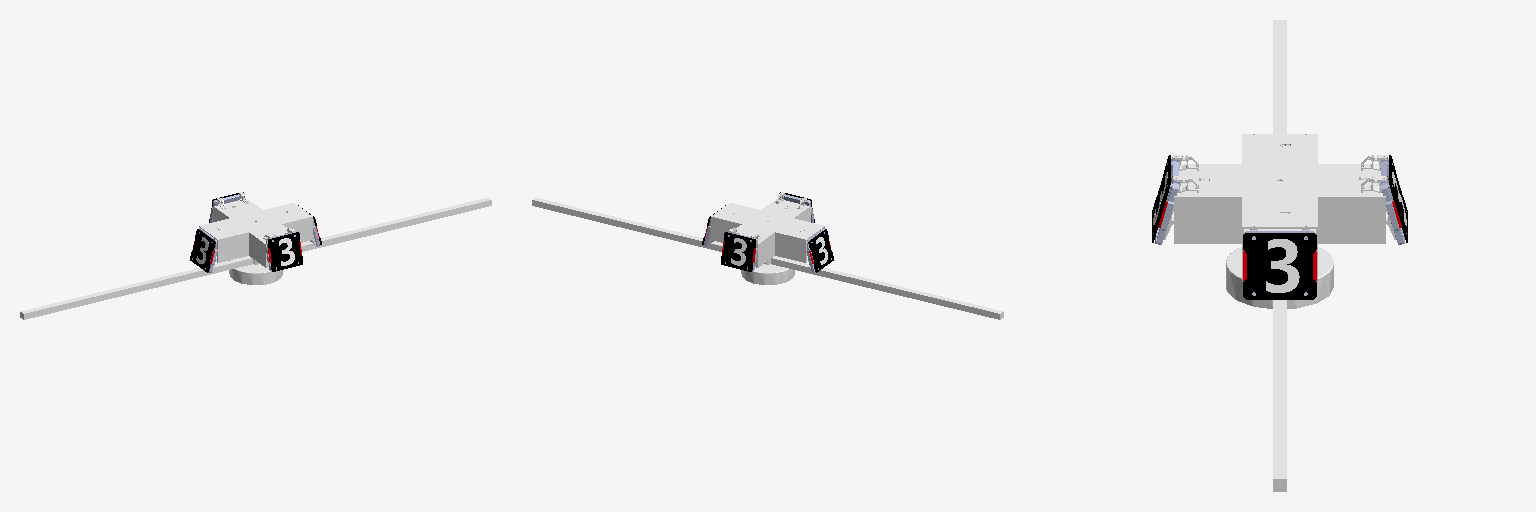
URDF robot description (Armor_Robot):
<?xml version="1.0" encoding="utf-8"?>
<!-- This URDF was automatically created by SolidWorks to URDF Exporter! Originally created by [author] ([email redacted]) 
     Commit Version: 1.6.0-4-g7f85cfe  Build Version: 1.6.7995.38578
     For more information, please see http://wiki.ros.org/sw_urdf_exporter -->
<robot
  name="Armor_Robot">
  <link
    name="base_link">
    <inertial>
      <origin
        xyz="0 1.84212725368865E-17 0.0416161371560982"
        rpy="0 0 0" />
      <mass
        value="2.82025938303669" />
      <inertia
        ixx="0.00536061385559418"
        ixy="1.9347577475559E-19"
        ixz="1.3377114869985E-19"
        iyy="0.421962176355594"
        iyz="-8.392727982218E-20"
        izz="0.424580430670725" />
    </inertial>
    <visual>
      <origin
        xyz="0 0 0"
        rpy="0 0 0" />
      <geometry>
        <mesh
          filename="package://Armor_Robot/meshes/base_link.STL" />
      </geometry>
      <material
        name="">
        <color
          rgba="1 1 1 1" />
      </material>
    </visual>
    <collision>
      <origin
        xyz="0 0 0"
        rpy="0 0 0" />
      <geometry>
        <mesh
          filename="package://Armor_Robot/meshes/base_link.STL" />
      </geometry>
    </collision>
  </link>
  <link
    name="move_link">
    <inertial>
      <origin
        xyz="0 4.8450284582946E-19 0.035"
        rpy="0 0 0" />
      <mass
        value="0.137444678594553" />
      <inertia
        ixx="7.75989747898417E-05"
        ixy="0"
        ixz="-2.32406525320738E-37"
        iyy="7.75989747898417E-05"
        iyz="2.06367498512661E-37"
        izz="4.2951462060798E-05" />
    </inertial>
    <visual>
      <origin
        xyz="0 0 0"
        rpy="0 0 0" />
      <geometry>
        <mesh
          filename="package://Armor_Robot/meshes/move_link.STL" />
      </geometry>
      <material
        name="">
        <color
          rgba="1 1 1 1" />
      </material>
    </visual>
    <collision>
      <origin
        xyz="0 0 0"
        rpy="0 0 0" />
      <geometry>
        <mesh
          filename="package://Armor_Robot/meshes/move_link.STL" />
      </geometry>
    </collision>
  </link>
  <joint
    name="move_joint"
    type="prismatic">
    <origin
      xyz="0 0 0.05"
      rpy="0 0 0" />
    <parent
      link="base_link" />
    <child
      link="move_link" />
    <axis
      xyz="1 0 0" />
    <!-- <limit
      lower="1"
      upper="-1"
      effort="0"
      velocity="0" /> -->
  </joint>
  <link
    name="body_link">
    <inertial>
      <origin
        xyz="0.00323410697082153 -0.000824032968703464 0.0434141574886305"
        rpy="0 0 0" />
      <mass
        value="1.43184052536946" />
      <inertia
        ixx="0.0108592385234091"
        ixy="-6.5109540176497E-07"
        ixz="6.16574138294673E-06"
        iyy="0.0123197521096828"
        iyz="-5.52200428477679E-11"
        izz="0.0213749566414504" />
    </inertial>
    <visual>
      <origin
        xyz="0 0 0"
        rpy="0 0 0" />
      <geometry>
        <mesh
          filename="package://Armor_Robot/meshes/body_link.STL" />
      </geometry>
      <material
        name="">
        <color
          rgba="1 1 1 1" />
      </material>
    </visual>
    <collision>
      <origin
        xyz="0 0 0"
        rpy="0 0 0" />
      <geometry>
        <mesh
          filename="package://Armor_Robot/meshes/body_link.STL" />
      </geometry>
    </collision>
  </link>
  <joint
    name="body_joint"
    type="continuous">
    <origin
      xyz="0 0 0.07"
      rpy="0 0 0" />
    <parent
      link="move_link" />
    <child
      link="body_link" />
    <axis
      xyz="0 0 1" />
  </joint>
  <link
    name="Armor_link_1">
    <inertial>
      <origin
        xyz="0.21405 1.3892E-08 0.025955"
        rpy="0 0 0" />
      <mass
        value="0.050946" />
      <inertia
        ixx="0.00014072"
        ixy="-1.1781E-10"
        ixz="1.6351E-05"
        iyy="6.7039E-05"
        iyz="4.5927E-10"
        izz="8.3002E-05" />
    </inertial>
    <visual>
      <origin
        xyz="0 0 0"
        rpy="0 0 0" />
      <geometry>
        <mesh
          filename="package://Armor_Robot/meshes/Armor_link_1.STL" />
      </geometry>
      <material
        name="">
        <color
          rgba="0.79216 0.81961 0.93333 1" />
      </material>
    </visual>
    <collision>
      <origin
        xyz="0 0 0"
        rpy="0 0 0" />
      <geometry>
        <mesh
          filename="package://Armor_Robot/meshes/Armor_link_1.STL" />
      </geometry>
    </collision>
  </link>
  <joint
    name="Armor_joint_1"
    type="fixed">
    <origin
      xyz="0 0 0"
      rpy="0 0 0" />
    <parent
      link="body_link" />
    <child
      link="Armor_link_1" />
    <axis
      xyz="0 0 0" />
  </joint>
  <link
    name="Armor_light_link_1">
    <inertial>
      <origin
        xyz="0.22157 -1.3919E-11 0.026444"
        rpy="0 0 0" />
      <mass
        value="0.007108" />
      <inertia
        ixx="2.1065E-06"
        ixy="1.2734E-14"
        ixz="5.1746E-07"
        iyy="2.2447E-06"
        iyz="-4.3448E-14"
        izz="3.1392E-07" />
    </inertial>
    <visual>
      <origin
        xyz="0 0 0"
        rpy="0 0 0" />
      <geometry>
        <mesh
          filename="package://Armor_Robot/meshes/Armor_light_link_1.STL" />
      </geometry>
      <material
        name="">
        <color
          rgba="1 0 0 1" />
      </material>
    </visual>
    <collision>
      <origin
        xyz="0 0 0"
        rpy="0 0 0" />
      <geometry>
        <mesh
          filename="package://Armor_Robot/meshes/Armor_light_link_1.STL" />
      </geometry>
    </collision>
  </link>
  <joint
    name="Armor_light_joint_1"
    type="fixed">
    <origin
      xyz="0 0 0"
      rpy="0 0 0" />
    <parent
      link="Armor_link_1" />
    <child
      link="Armor_light_link_1" />
    <axis
      xyz="0 0 0" />
  </joint>
  <link
    name="Armor_board_link_1">
    <inertial>
      <origin
        xyz="0.2279 8.3068E-10 0.028072"
        rpy="0 0 0" />
      <mass
        value="0.048187" />
      <inertia
        ixx="0.000127"
        ixy="9.2621E-20"
        ixz="1.5976E-05"
        iyy="6.3975E-05"
        iyz="1.1293E-19"
        izz="7.1656E-05" />
    </inertial>
    <visual>
      <origin
        xyz="0 0 0"
        rpy="0 0 0" />
      <geometry>
        <mesh
          filename="package://Armor_Robot/meshes/Armor_board_link_1.STL" />
      </geometry>
      <material
        name="">
        <color
          rgba="0 0 0 1" />
      </material>
    </visual>
    <collision>
      <origin
        xyz="0 0 0"
        rpy="0 0 0" />
      <geometry>
        <mesh
          filename="package://Armor_Robot/meshes/Armor_board_link_1.STL" />
      </geometry>
    </collision>
  </link>
  <joint
    name="Armor_board_joint_1"
    type="fixed">
    <origin
      xyz="0 0 0"
      rpy="0 0 0" />
    <parent
      link="Armor_link_1" />
    <child
      link="Armor_board_link_1" />
    <axis
      xyz="0 0 0" />
  </joint>
  <link
    name="Armor_num_link_1">
    <inertial>
      <origin
        xyz="0.22945 0.0084094 0.02828"
        rpy="0 0 0" />
      <mass
        value="0.00034078" />
      <inertia
        ixx="4.0012E-07"
        ixy="7.5418E-10"
        ixz="8.5023E-08"
        iyy="3.4009E-07"
        iyz="-2.8146E-09"
        izz="1.0559E-07" />
    </inertial>
    <visual>
      <origin
        xyz="0 0 0"
        rpy="0 0 0" />
      <geometry>
        <mesh
          filename="package://Armor_Robot/meshes/Armor_num_link_1.STL" />
      </geometry>
      <material
        name="">
        <color
          rgba="1 1 1 1" />
      </material>
    </visual>
    <!-- <collision>
      <origin
        xyz="0 0 0"
        rpy="0 0 0" />
      <geometry>
        <mesh
          filename="package://Armor_Robot/meshes/Armor_num_link_1.STL" />
      </geometry>
    </collision> -->
  </link>
  <joint
    name="Armor_num_joint_1"
    type="fixed">
    <origin
      xyz="0 0 0"
      rpy="0 0 0" />
    <parent
      link="Armor_board_link_1" />
    <child
      link="Armor_num_link_1" />
    <axis
      xyz="0 0 0" />
  </joint>
  <link
    name="Armor_link_2">
    <inertial>
      <origin
        xyz="1.67830696248036E-08 -0.205050357307329 0.0559554955610215"
        rpy="0 0 0" />
      <mass
        value="0.050945615705612" />
      <inertia
        ixx="6.70385544565706E-05"
        ixy="1.1618630452987E-10"
        ixz="4.54452869165702E-10"
        iyy="0.000140719404105713"
        iyz="-1.63508603410776E-05"
        izz="8.30016414568248E-05" />
    </inertial>
    <visual>
      <origin
        xyz="0 0 0"
        rpy="0 0 0" />
      <geometry>
        <mesh
          filename="package://Armor_Robot/meshes/Armor_link_2.STL" />
      </geometry>
      <material
        name="">
        <color
          rgba="0.792156862745098 0.819607843137255 0.933333333333333 1" />
      </material>
    </visual>
    <collision>
      <origin
        xyz="0 0 0"
        rpy="0 0 0" />
      <geometry>
        <mesh
          filename="package://Armor_Robot/meshes/Armor_link_2.STL" />
      </geometry>
    </collision>
  </link>
  <joint
    name="Armor_joint_2"
    type="fixed">
    <origin
      xyz="0 0 0"
      rpy="0 0 0" />
    <parent
      link="body_link" />
    <child
      link="Armor_link_2" />
    <axis
      xyz="0 0 0" />
  </joint>
  <link
    name="Armor_light_link_2">
    <inertial>
      <origin
        xyz="-1.3919E-11 -0.21257 0.056444"
        rpy="0 0 0" />
      <mass
        value="0.007108" />
      <inertia
        ixx="2.2447E-06"
        ixy="-1.2734E-14"
        ixz="-4.3448E-14"
        iyy="2.1065E-06"
        iyz="-5.1746E-07"
        izz="3.1392E-07" />
    </inertial>
    <visual>
      <origin
        xyz="0 0 0"
        rpy="0 0 0" />
      <geometry>
        <mesh
          filename="package://Armor_Robot/meshes/Armor_light_link_2.STL" />
      </geometry>
      <material
        name="">
        <color
          rgba="1 0 0 1" />
      </material>
    </visual>
    <collision>
      <origin
        xyz="0 0 0"
        rpy="0 0 0" />
      <geometry>
        <mesh
          filename="package://Armor_Robot/meshes/Armor_light_link_2.STL" />
      </geometry>
    </collision>
  </link>
  <joint
    name="Armor_light_joint_2"
    type="fixed">
    <origin
      xyz="0 0 0"
      rpy="0 0 0" />
    <parent
      link="Armor_link_2" />
    <child
      link="Armor_light_link_2" />
    <axis
      xyz="0 0 0" />
  </joint>
  <link
    name="Armor_board_link_2">
    <inertial>
      <origin
        xyz="8.30680123428337E-10 -0.218896581535879 0.0580715484311269"
        rpy="0 0 0" />
      <mass
        value="0.0481867874495532" />
      <inertia
        ixx="6.39748637618369E-05"
        ixy="-1.28431106957352E-19"
        ixz="-2.11911365503264E-20"
        iyy="0.000126997669638442"
        iyz="-1.59756619204251E-05"
        izz="7.16563533769967E-05" />
    </inertial>
    <visual>
      <origin
        xyz="0 0 0"
        rpy="0 0 0" />
      <geometry>
        <mesh
          filename="package://Armor_Robot/meshes/Armor_board_link_2.STL" />
      </geometry>
      <material
        name="">
        <color
          rgba="0 0 0 1" />
      </material>
    </visual>
    <collision>
      <origin
        xyz="0 0 0"
        rpy="0 0 0" />
      <geometry>
        <mesh
          filename="package://Armor_Robot/meshes/Armor_board_link_2.STL" />
      </geometry>
    </collision>
  </link>
  <joint
    name="Armor_board_joint_2"
    type="fixed">
    <origin
      xyz="0 0 0"
      rpy="0 0 0" />
    <parent
      link="Armor_link_2" />
    <child
      link="Armor_board_link_2" />
    <axis
      xyz="0 0 0" />
  </joint>
  <link
    name="Armor_num_link_2">
    <inertial>
      <origin
        xyz="0.00840944059962741 -0.220448164013808 0.0582803425975888"
        rpy="0 0 0" />
      <mass
        value="0.000340775843454777" />
      <inertia
        ixx="3.40092980656507E-07"
        ixy="-7.54176109816083E-10"
        ixz="-2.81462765480805E-09"
        iyy="4.00122456800335E-07"
        iyz="-8.50231037345994E-08"
        izz="1.05593788384602E-07" />
    </inertial>
    <visual>
      <origin
        xyz="0 0 0"
        rpy="0 0 0" />
      <geometry>
        <mesh
          filename="package://Armor_Robot/meshes/Armor_num_link_2.STL" />
      </geometry>
      <material
        name="">
        <color
          rgba="1 1 1 1" />
      </material>
    </visual>
    <!-- <collision>
      <origin
        xyz="0 0 0"
        rpy="0 0 0" />
      <geometry>
        <mesh
          filename="package://Armor_Robot/meshes/Armor_num_link_2.STL" />
      </geometry>
    </collision> -->
  </link>
  <joint
    name="Armor_num_joint_2"
    type="fixed">
    <origin
      xyz="0 0 0"
      rpy="0 0 0" />
    <parent
      link="Armor_board_link_2" />
    <child
      link="Armor_num_link_2" />
    <axis
      xyz="0 0 0" />
  </joint>
  <link
    name="Armor_link_3">
    <inertial>
      <origin
        xyz="-0.214050358392127 -1.38918112584078E-08 0.0259554926170008"
        rpy="0 0 0" />
      <mass
        value="0.0509456108266588" />
      <inertia
        ixx="0.000140719394477255"
        ixy="-1.17811631903681E-10"
        ixz="-1.63508587007265E-05"
        iyy="6.70385490467131E-05"
        iyz="-4.592660103053E-10"
        izz="8.30016361783646E-05" />
    </inertial>
    <visual>
      <origin
        xyz="0 0 0"
        rpy="0 0 0" />
      <geometry>
        <mesh
          filename="package://Armor_Robot/meshes/Armor_link_3.STL" />
      </geometry>
      <material
        name="">
        <color
          rgba="0.792156862745098 0.819607843137255 0.933333333333333 1" />
      </material>
    </visual>
    <collision>
      <origin
        xyz="0 0 0"
        rpy="0 0 0" />
      <geometry>
        <mesh
          filename="package://Armor_Robot/meshes/Armor_link_3.STL" />
      </geometry>
    </collision>
  </link>
  <joint
    name="Armor_joint_3"
    type="fixed">
    <origin
      xyz="0 0 0"
      rpy="0 0 0" />
    <parent
      link="body_link" />
    <child
      link="Armor_link_3" />
    <axis
      xyz="0 0 0" />
  </joint>
  <link
    name="Armor_light_link_3">
    <inertial>
      <origin
        xyz="-0.22157 1.3919E-11 0.026444"
        rpy="0 0 0" />
      <mass
        value="0.007108" />
      <inertia
        ixx="2.1065E-06"
        ixy="1.2734E-14"
        ixz="-5.1746E-07"
        iyy="2.2447E-06"
        iyz="4.3448E-14"
        izz="3.1392E-07" />
    </inertial>
    <visual>
      <origin
        xyz="0 0 0"
        rpy="0 0 0" />
      <geometry>
        <mesh
          filename="package://Armor_Robot/meshes/Armor_light_link_3.STL" />
      </geometry>
      <material
        name="">
        <color
          rgba="1 0 0 1" />
      </material>
    </visual>
    <collision>
      <origin
        xyz="0 0 0"
        rpy="0 0 0" />
      <geometry>
        <mesh
          filename="package://Armor_Robot/meshes/Armor_light_link_3.STL" />
      </geometry>
    </collision>
  </link>
  <joint
    name="Armor_light_joint_3"
    type="fixed">
    <origin
      xyz="0 0 0"
      rpy="0 0 0" />
    <parent
      link="Armor_link_3" />
    <child
      link="Armor_light_link_3" />
    <axis
      xyz="0 0 0" />
  </joint>
  <link
    name="Armor_board_link_3">
    <inertial>
      <origin
        xyz="-0.227896581535879 -8.30680049377329E-10 0.0280715484311268"
        rpy="0 0 0" />
      <mass
        value="0.0481867874495531" />
      <inertia
        ixx="0.000126997669638441"
        ixy="1.45289253109561E-19"
        ixz="-1.5975661920425E-05"
        iyy="6.39748637618367E-05"
        iyz="-1.54911827414891E-20"
        izz="7.16563533769965E-05" />
    </inertial>
    <visual>
      <origin
        xyz="0 0 0"
        rpy="0 0 0" />
      <geometry>
        <mesh
          filename="package://Armor_Robot/meshes/Armor_board_link_3.STL" />
      </geometry>
      <material
        name="">
        <color
          rgba="0 0 0 1" />
      </material>
    </visual>
    <collision>
      <origin
        xyz="0 0 0"
        rpy="0 0 0" />
      <geometry>
        <mesh
          filename="package://Armor_Robot/meshes/Armor_board_link_3.STL" />
      </geometry>
    </collision>
  </link>
  <joint
    name="Armor_board_joint_3"
    type="fixed">
    <origin
      xyz="0 0 0"
      rpy="0 0 0" />
    <parent
      link="Armor_link_3" />
    <child
      link="Armor_board_link_3" />
    <axis
      xyz="0 0 0" />
  </joint>
  <link
    name="Armor_num_link_3">
    <inertial>
      <origin
        xyz="-0.229448164013808 -0.00840944059962693 0.0282803425975881"
        rpy="0 0 0" />
      <mass
        value="0.00034077584345476" />
      <inertia
        ixx="4.00122456800331E-07"
        ixy="7.54176109815772E-10"
        ixz="-8.50231037345989E-08"
        iyy="3.40092980656505E-07"
        iyz="2.81462765480678E-09"
        izz="1.055937883846E-07" />
    </inertial>
    <visual>
      <origin
        xyz="0 0 0"
        rpy="0 0 0" />
      <geometry>
        <mesh
          filename="package://Armor_Robot/meshes/Armor_num_link_3.STL" />
      </geometry>
      <material
        name="">
        <color
          rgba="1 1 1 1" />
      </material>
    </visual>
    <!-- <collision>
      <origin
        xyz="0 0 0"
        rpy="0 0 0" />
      <geometry>
        <mesh
          filename="package://Armor_Robot/meshes/Armor_num_link_3.STL" />
      </geometry>
    </collision> -->
  </link>
  <joint
    name="Armor_num_joint_3"
    type="fixed">
    <origin
      xyz="0 0 0"
      rpy="0 0 0" />
    <parent
      link="Armor_board_link_3" />
    <child
      link="Armor_num_link_3" />
    <axis
      xyz="0 0 0" />
  </joint>
  <link
    name="Armor_link_4">
    <inertial>
      <origin
        xyz="-1.67830877340156E-08 0.205050357307338 0.0559554955609963"
        rpy="0 0 0" />
      <mass
        value="0.0509456157056531" />
      <inertia
        ixx="6.70385544566252E-05"
        ixy="1.16186317350392E-10"
        ixz="-4.54452904280234E-10"
        iyy="0.000140719404105789"
        iyz="1.6350860341095E-05"
        izz="8.30016414568596E-05" />
    </inertial>
    <visual>
      <origin
        xyz="0 0 0"
        rpy="0 0 0" />
      <geometry>
        <mesh
          filename="package://Armor_Robot/meshes/Armor_link_4.STL" />
      </geometry>
      <material
        name="">
        <color
          rgba="0.792156862745098 0.819607843137255 0.933333333333333 1" />
      </material>
    </visual>
    <collision>
      <origin
        xyz="0 0 0"
        rpy="0 0 0" />
      <geometry>
        <mesh
          filename="package://Armor_Robot/meshes/Armor_link_4.STL" />
      </geometry>
    </collision>
  </link>
  <joint
    name="Armor_joint_4"
    type="fixed">
    <origin
      xyz="0 0 0"
      rpy="0 0 0" />
    <parent
      link="body_link" />
    <child
      link="Armor_link_4" />
    <axis
      xyz="0 0 0" />
  </joint>
  <link
    name="Armor_light_link_4">
    <inertial>
      <origin
        xyz="1.3919E-11 0.21257 0.056444"
        rpy="0 0 0" />
      <mass
        value="0.007108" />
      <inertia
        ixx="2.2447E-06"
        ixy="-1.2734E-14"
        ixz="4.3448E-14"
        iyy="2.1065E-06"
        iyz="5.1746E-07"
        izz="3.1392E-07" />
    </inertial>
    <visual>
      <origin
        xyz="0 0 0"
        rpy="0 0 0" />
      <geometry>
        <mesh
          filename="package://Armor_Robot/meshes/Armor_light_link_4.STL" />
      </geometry>
      <material
        name="">
        <color
          rgba="1 0 0 1" />
      </material>
    </visual>
    <collision>
      <origin
        xyz="0 0 0"
        rpy="0 0 0" />
      <geometry>
        <mesh
          filename="package://Armor_Robot/meshes/Armor_light_link_4.STL" />
      </geometry>
    </collision>
  </link>
  <joint
    name="Armor_light_joint_4"
    type="fixed">
    <origin
      xyz="0 0 0"
      rpy="0 0 0" />
    <parent
      link="Armor_link_4" />
    <child
      link="Armor_light_link_4" />
    <axis
      xyz="0 0 0" />
  </joint>
  <link
    name="Armor_board_link_4">
    <inertial>
      <origin
        xyz="-8.3068E-10 0.2189 0.058072"
        rpy="0 0 0" />
      <mass
        value="0.048187" />
      <inertia
        ixx="6.3975E-05"
        ixy="-9.8541E-20"
        ixz="-3.691E-20"
        iyy="0.000127"
        iyz="1.5976E-05"
        izz="7.1656E-05" />
    </inertial>
    <visual>
      <origin
        xyz="0 0 0"
        rpy="0 0 0" />
      <geometry>
        <mesh
          filename="package://Armor_Robot/meshes/Armor_board_link_4.STL" />
      </geometry>
      <material
        name="">
        <color
          rgba="0 0 0 1" />
      </material>
    </visual>
    <collision>
      <origin
        xyz="0 0 0"
        rpy="0 0 0" />
      <geometry>
        <mesh
          filename="package://Armor_Robot/meshes/Armor_board_link_4.STL" />
      </geometry>
    </collision>
  </link>
  <joint
    name="Armor_board_joint_4"
    type="fixed">
    <origin
      xyz="0 0 0"
      rpy="0 0 0" />
    <parent
      link="Armor_link_4" />
    <child
      link="Armor_board_link_4" />
    <axis
      xyz="0 0 0" />
  </joint>
  <link
    name="Armor_num_link_4">
    <inertial>
      <origin
        xyz="-0.0084094 0.22045 0.05828"
        rpy="0 0 0" />
      <mass
        value="0.00034078" />
      <inertia
        ixx="3.4009E-07"
        ixy="-7.5418E-10"
        ixz="2.8146E-09"
        iyy="4.0012E-07"
        iyz="8.5023E-08"
        izz="1.0559E-07" />
    </inertial>
    <visual>
      <origin
        xyz="0 0 0"
        rpy="0 0 0" />
      <geometry>
        <mesh
          filename="package://Armor_Robot/meshes/Armor_num_link_4.STL" />
      </geometry>
      <material
        name="">
        <color
          rgba="1 1 1 1" />
      </material>
    </visual>
    <!-- <collision>
      <origin
        xyz="0 0 0"
        rpy="0 0 0" />
      <geometry>
        <mesh
          filename="package://Armor_Robot/meshes/Armor_num_link_4.STL" />
      </geometry>
    </collision> -->
  </link>
  <joint
    name="Armor_num_joint_4"
    type="fixed">
    <origin
      xyz="0 0 0"
      rpy="0 0 0" />
    <parent
      link="Armor_board_link_4" />
    <child
      link="Armor_num_link_4" />
    <axis
      xyz="0 0 0" />
  </joint>
</robot>

--- Render facts (derived) ---
Views: 3 orthographic renders of the robot side by side, from view 1: azimuth 30°, elevation 25°; view 2: azimuth 150°, elevation 25°; view 3: azimuth 270°, elevation 25°.
Robot: Armor_Robot — 19 links, 18 joints (1 continuous, 1 prismatic, 16 fixed); root link base_link; default pose: all joints at 0.
Links seen in each view (by area): view 1: base_link, body_link, Armor_board_link_2, Armor_board_link_3; view 2: base_link, body_link, Armor_board_link_4, Armor_board_link_3; view 3: body_link, base_link, Armor_board_link_1, Armor_num_link_1, Armor_link_2, Armor_link_4, Armor_board_link_4, Armor_board_link_2.
Boxes of the visible links, x1=… form: base_link: x1=20, y1=198, x2=491, y2=319; body_link: x1=199, y1=192, x2=315, y2=267; Armor_board_link_2: x1=268, y1=232, x2=302, y2=271; Armor_board_link_3: x1=190, y1=229, x2=215, y2=272; base_link: x1=532, y1=198, x2=1003, y2=319; body_link: x1=708, y1=192, x2=824, y2=267; Armor_board_link_4: x1=721, y1=232, x2=755, y2=271; Armor_board_link_3: x1=808, y1=229, x2=833, y2=272; body_link: x1=1164, y1=134, x2=1395, y2=248; base_link: x1=1226, y1=20, x2=1333, y2=491; Armor_board_link_1: x1=1243, y1=233, x2=1316, y2=299; Armor_num_link_1: x1=1266, y1=239, x2=1299, y2=292; Armor_link_2: x1=1153, y1=157, x2=1178, y2=244; Armor_link_4: x1=1381, y1=157, x2=1406, y2=244; Armor_board_link_4: x1=1389, y1=155, x2=1407, y2=242; Armor_board_link_2: x1=1152, y1=155, x2=1170, y2=242.
Size in the robot's own frame: 2 by 0.473 by 0.243 metres.
Meshes: 19 distinct files referenced, 19 mesh visuals loaded (19 binary STL).